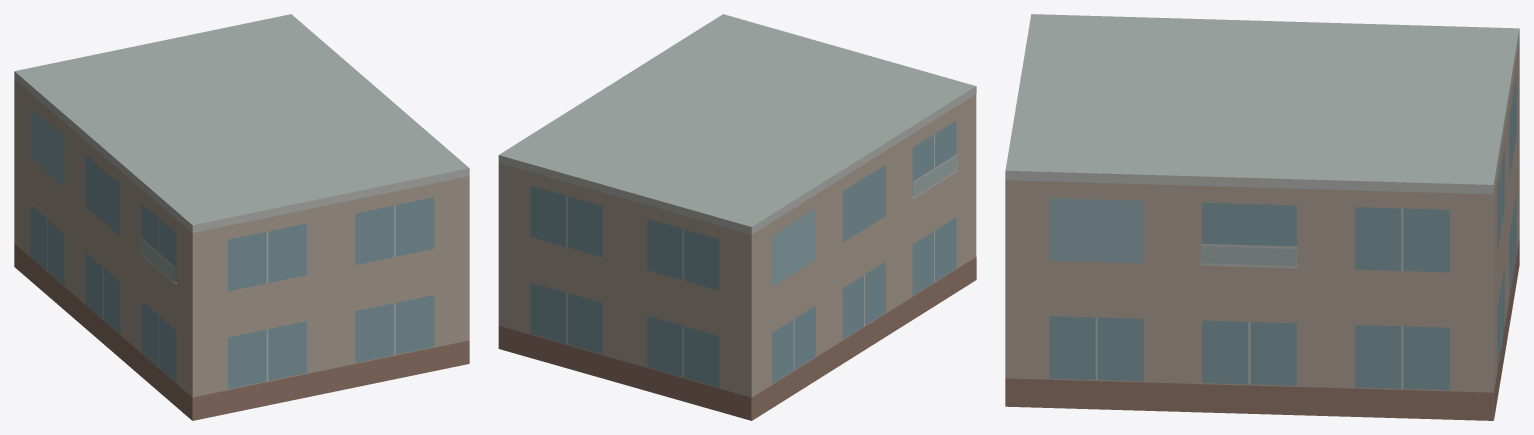
Rendered from survey-upis-32803816.glb.
3 views of the same model, side by side, from view 1: azimuth 30°, elevation 25°; view 2: azimuth 150°, elevation 25°; view 3: azimuth 270°, elevation 25° (orthographic). The views are drawn at different scales.
Parts seen in each view (by area): view 1: survey-upis-32803816.tmp; view 2: survey-upis-32803816.tmp; view 3: survey-upis-32803816.tmp.
Boxes of the visible parts, x1,y1,x2,y2 form: survey-upis-32803816.tmp: (14, 14, 469, 420); survey-upis-32803816.tmp: (498, 14, 976, 420); survey-upis-32803816.tmp: (1005, 14, 1519, 420).
Bounding box in the file's own units: 9.49 × 6.1 × 12.06.
